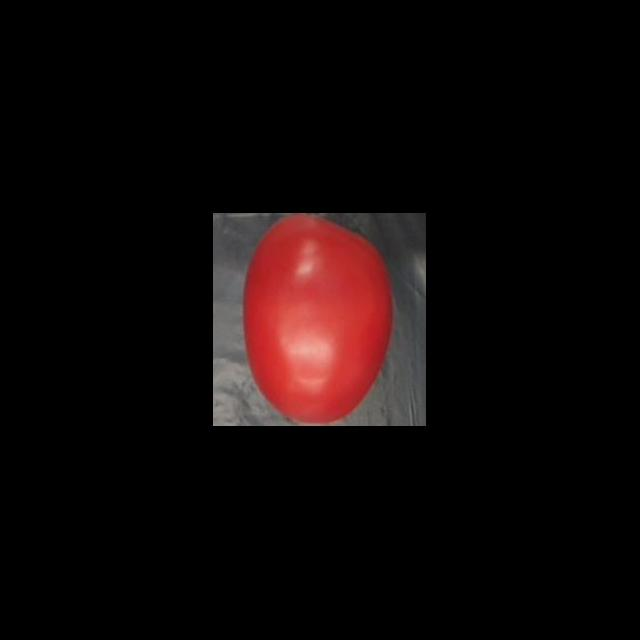tomato: (240, 214, 398, 426)
